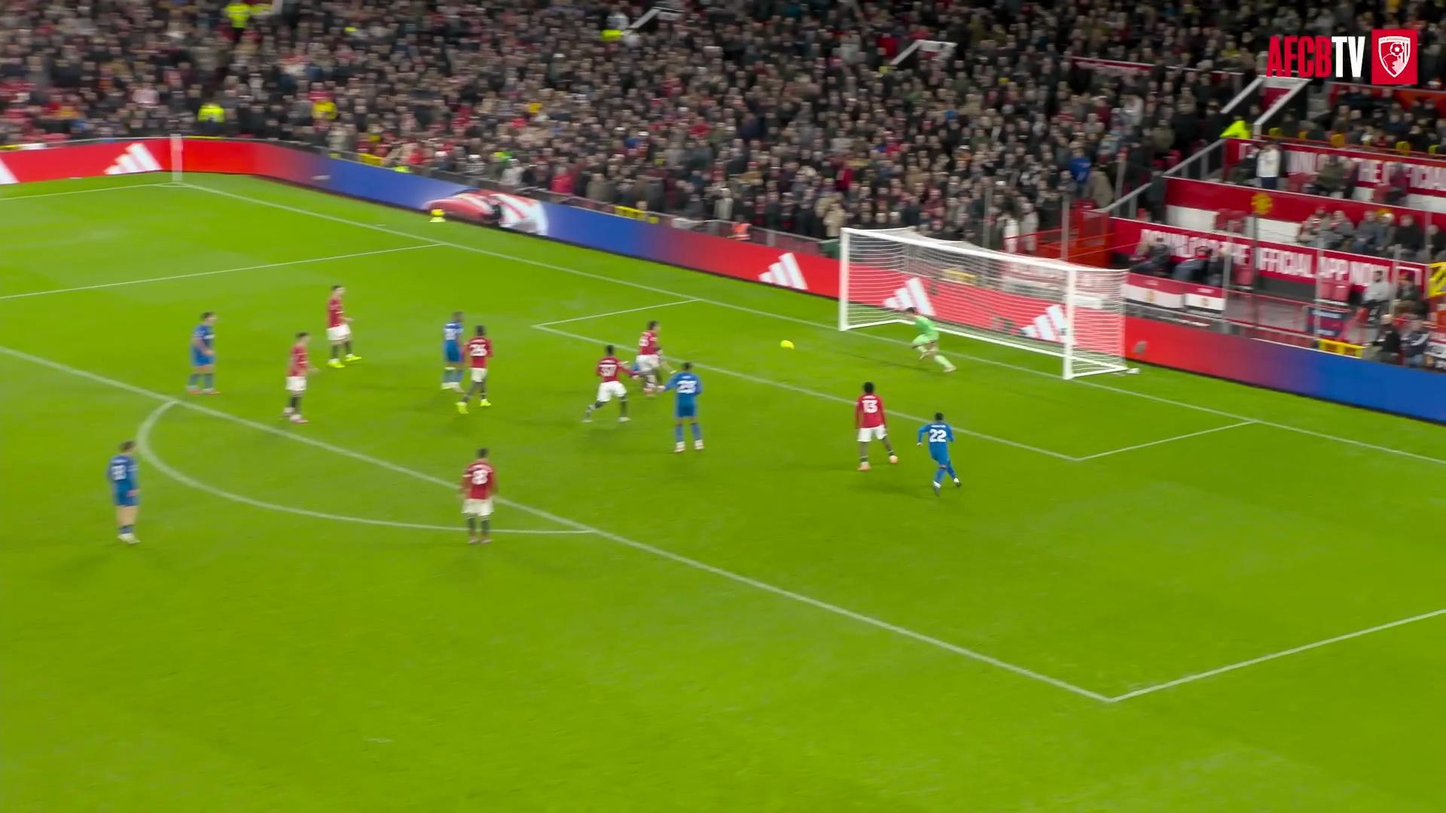football: (775, 333, 802, 360)
player: (583, 345, 638, 422), (662, 362, 703, 452), (856, 382, 897, 470), (917, 413, 960, 494), (460, 447, 496, 543), (107, 440, 138, 544), (457, 325, 492, 413), (907, 307, 955, 371), (283, 331, 315, 423), (327, 285, 360, 367), (633, 320, 666, 396), (187, 311, 216, 393), (441, 312, 464, 391)
